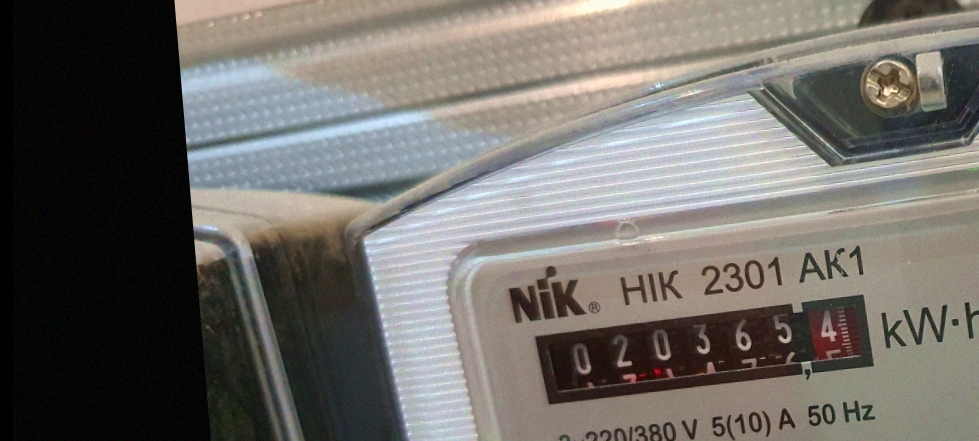0: (652, 325, 674, 362), (571, 340, 594, 375)
2: (610, 331, 635, 368)
3: (692, 319, 713, 355)
4: (818, 307, 839, 342)
5: (772, 311, 795, 345)
6: (732, 315, 755, 352)
screen: (518, 282, 894, 414)
